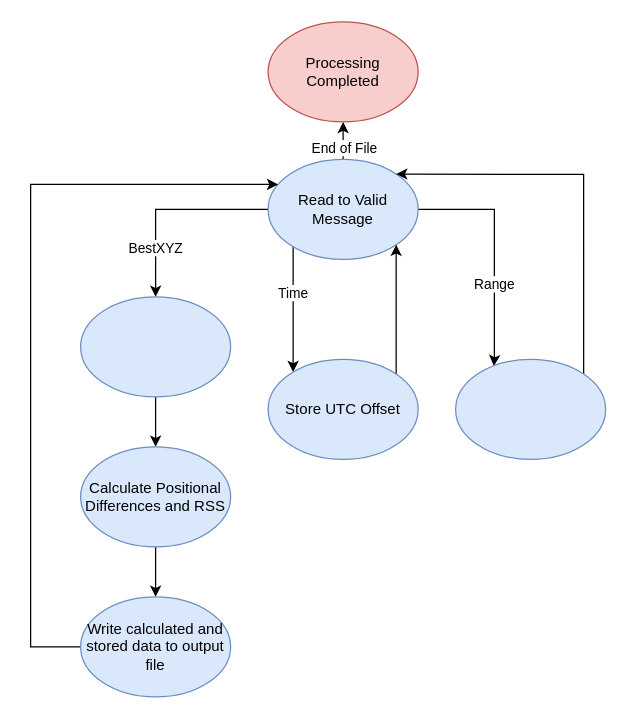
Image size: 628x719. Some labels were removed from this diagram. The box of each missing label's shape, as (x1, y1, x2, y2) in pixels:
Calculate and store number of GPS satellites: (454, 358, 606, 459)
Get Position: (79, 296, 231, 397)
